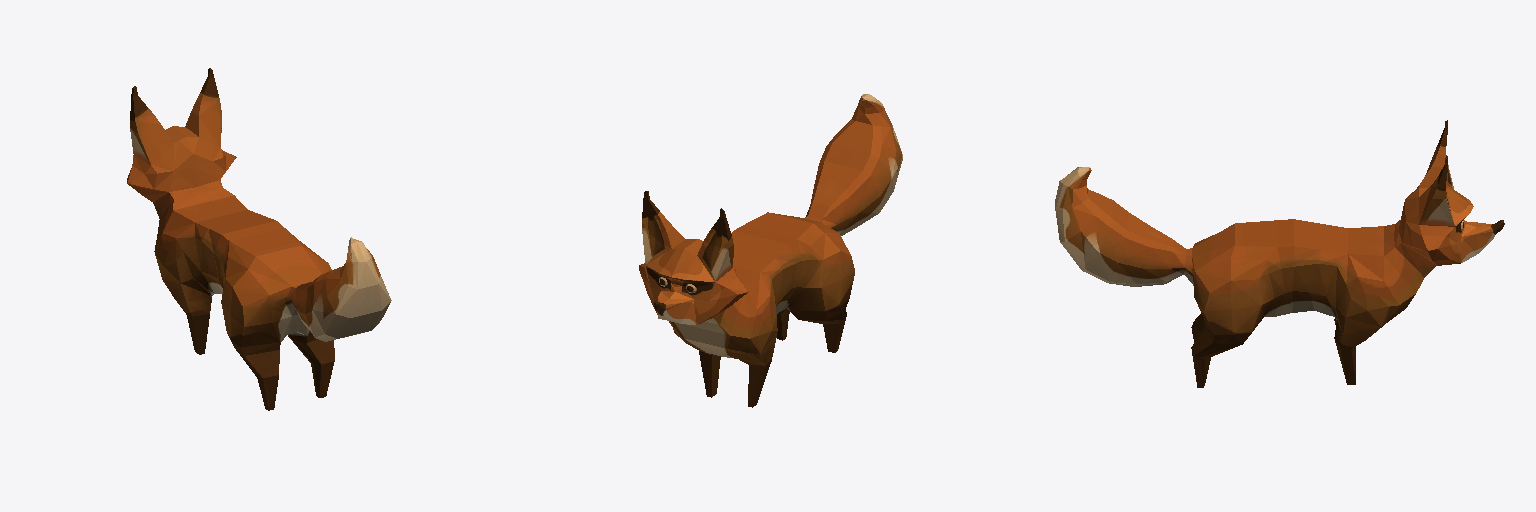
3 views of the same model, side by side, from view 1: azimuth 30°, elevation 25°; view 2: azimuth 150°, elevation 25°; view 3: azimuth 270°, elevation 25° (orthographic).
Parts seen in each view (by area): view 1: Ani_FOX; view 2: Ani_FOX; view 3: Ani_FOX.
Part boxes in pixels (left/top/right/bottom): Ani_FOX: left=127, top=68, right=391, bottom=410; Ani_FOX: left=639, top=94, right=902, bottom=407; Ani_FOX: left=1055, top=120, right=1504, bottom=387.
Bounding box in the file's own units: 0.8977 × 1.85 × 3.19.
Materials: 1 (1 with a texture image).